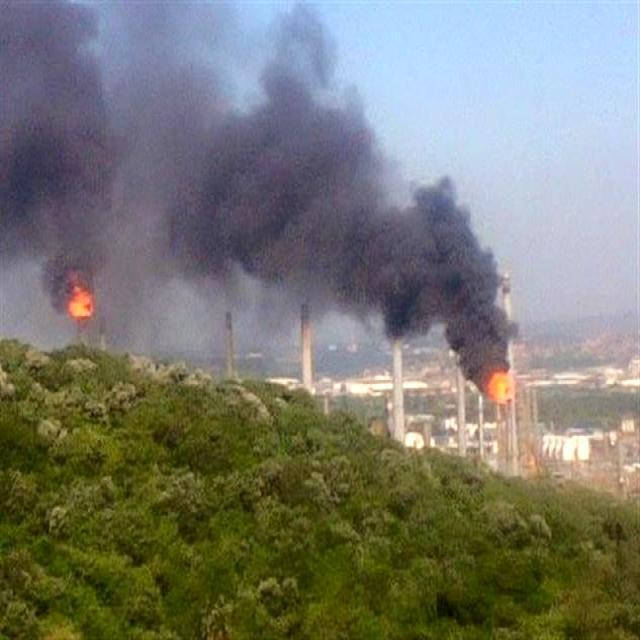Fire: (480, 362, 520, 416), (64, 281, 98, 325)
Smoke: (0, 0, 240, 313), (242, 133, 512, 357)
